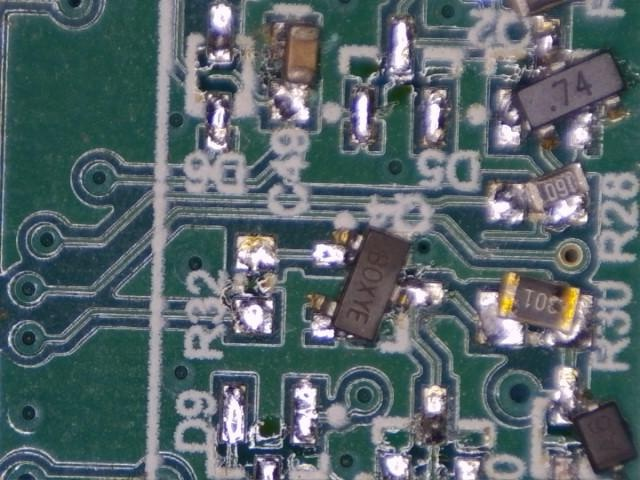pcb_defect: (496, 17, 628, 151), (310, 226, 442, 343), (554, 368, 639, 480), (480, 270, 594, 349), (490, 162, 590, 227), (269, 22, 322, 123)
